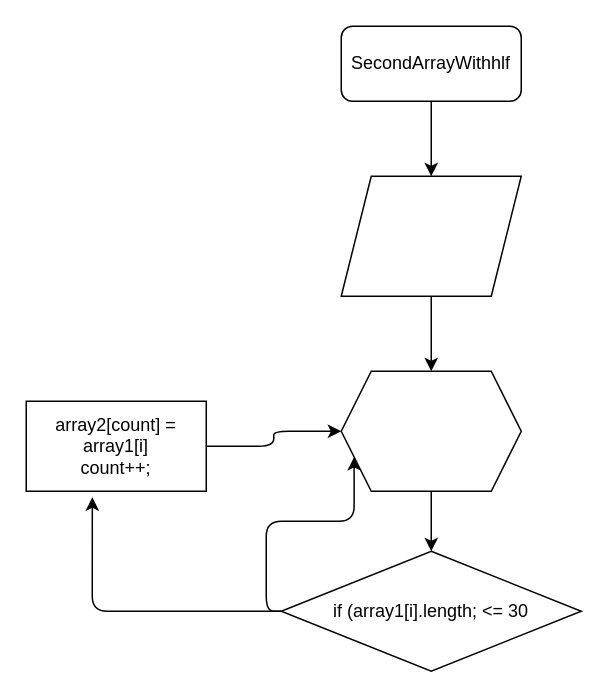
The diagram is 608 pixels wide and 698 high, and some of its shapes have lost their labels. The centre of each missing label's shape, as x and y in pixels:
for (int i = 0; i < array1.length; i++): point (430, 430)
string[ ] array1 string array2 int count = 0: point (430, 235)
